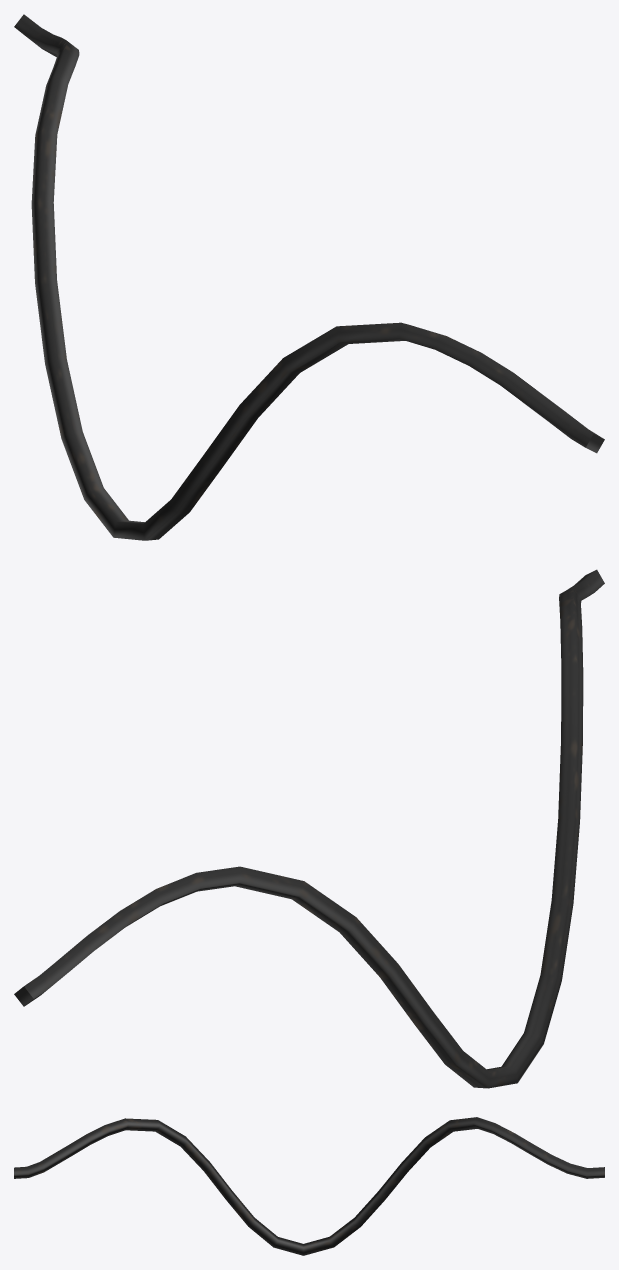
File: cablePipe02_C.fbx
3 views of the same model, one above another, from view 1: azimuth 30°, elevation 25°; view 2: azimuth 150°, elevation 25°; view 3: azimuth 270°, elevation 25° (orthographic). The views are drawn at different scales.
Visible parts, largest first — view 1: cablePipe02_C; view 2: cablePipe02_C; view 3: cablePipe02_C.
Part boxes in pixels (bbox=[...]): cablePipe02_C: bbox=[14, 14, 604, 540]; cablePipe02_C: bbox=[14, 569, 604, 1088]; cablePipe02_C: bbox=[14, 1117, 604, 1255].
Bounding box in the file's own units: 64.47 × 91.44 × 300.
